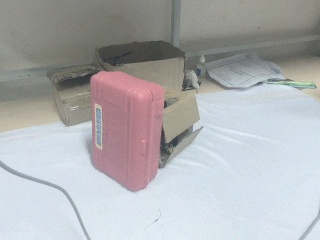box: (91, 69, 169, 199), (86, 38, 196, 97), (43, 61, 105, 128), (161, 97, 205, 166)
